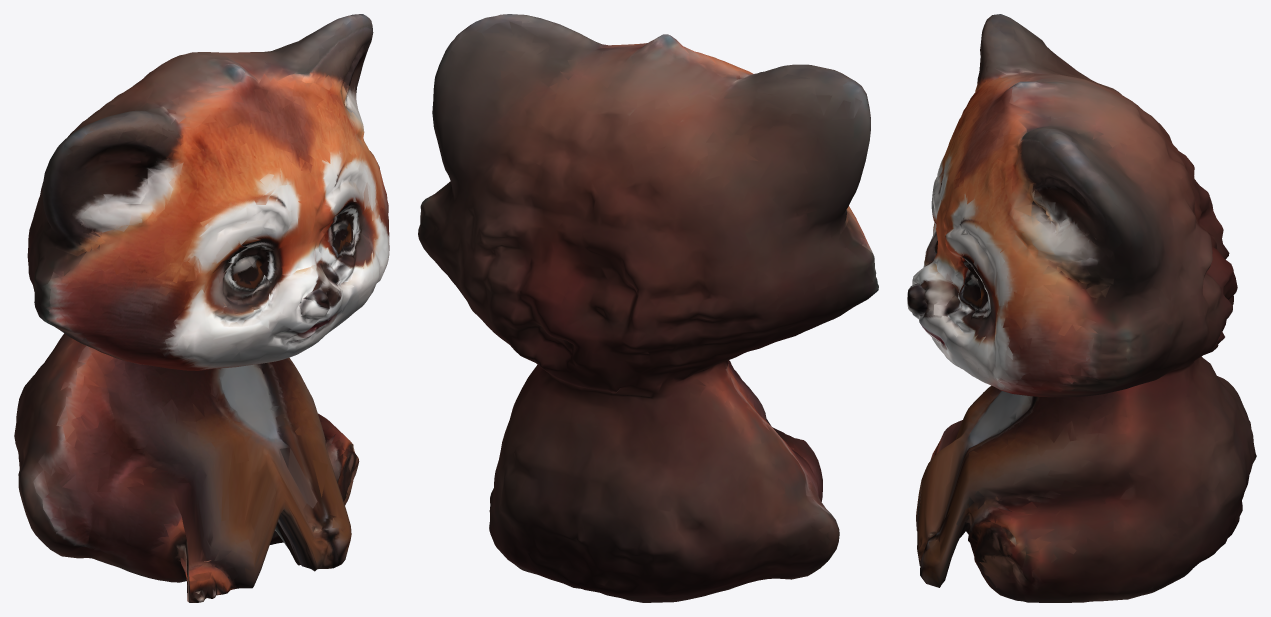
The model's file is pet-unapproved.glb.
3 views of the same model, side by side, from view 1: azimuth 30°, elevation 25°; view 2: azimuth 150°, elevation 25°; view 3: azimuth 270°, elevation 25° (orthographic). The views are drawn at different scales.
Visible parts, largest first — view 1: JungleRedPanda_Body; view 2: JungleRedPanda_Body; view 3: JungleRedPanda_Body.
Part boxes in pixels (x1=…): JungleRedPanda_Body: x1=14, y1=14, x2=389, y2=602; JungleRedPanda_Body: x1=418, y1=14, x2=878, y2=602; JungleRedPanda_Body: x1=907, y1=14, x2=1256, y2=602.
Size of the model in its own units: 2.35 by 2.8 by 1.86.
1 material, 1 textured.
